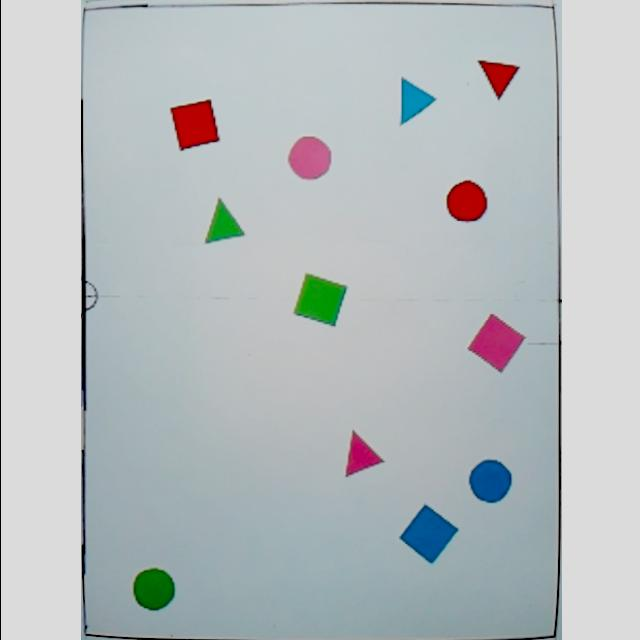blueCircle: (464, 456, 512, 506)
blueSquare: (395, 503, 457, 565)
blueTriangle: (394, 78, 436, 128)
greenCircle: (129, 565, 175, 613)
greenSquare: (290, 273, 348, 329)
greenTriangle: (201, 194, 245, 246)
pinkCircle: (283, 133, 331, 181)
pinkSquare: (466, 312, 524, 376)
pinkTriangle: (338, 429, 384, 481)
redCircle: (442, 178, 488, 225)
redSquare: (166, 96, 218, 154)
redTriangle: (473, 58, 519, 102)
